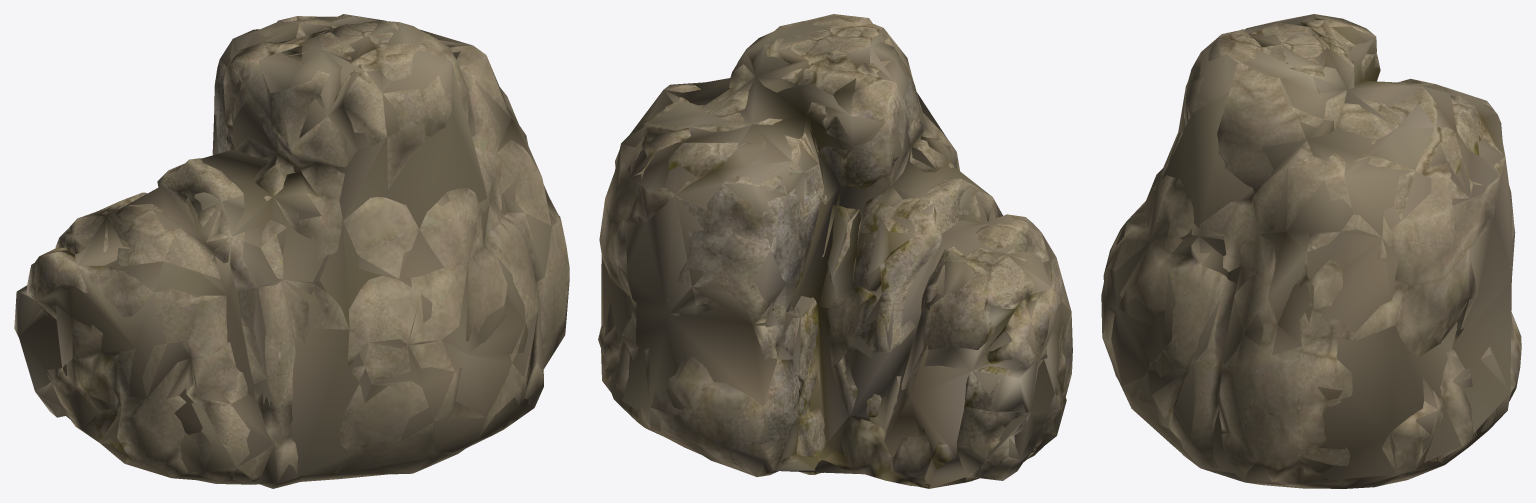
The model's file is pena.glb.
3 renders of one model, left to right at view 1: azimuth 30°, elevation 25°; view 2: azimuth 150°, elevation 25°; view 3: azimuth 270°, elevation 25°, orthographic. The views are drawn at different scales.
Parts seen in each view (by area): view 1: cerca, medio, lejos; view 2: cerca, medio, lejos; view 3: cerca, lejos, medio.
Part boxes in pixels (<box>): cerca: <box>24,14,569,488</box>; medio: <box>14,16,560,484</box>; lejos: <box>19,23,548,476</box>; cerca: <box>598,14,1072,488</box>; medio: <box>602,14,1072,488</box>; lejos: <box>601,28,1062,488</box>; cerca: <box>1102,14,1521,488</box>; lejos: <box>1118,14,1511,482</box>; medio: <box>1101,14,1519,488</box>.
Size of the model in its own units: 2.8 by 2.08 by 2.14.
Materials: 2 (1 with a texture image).
